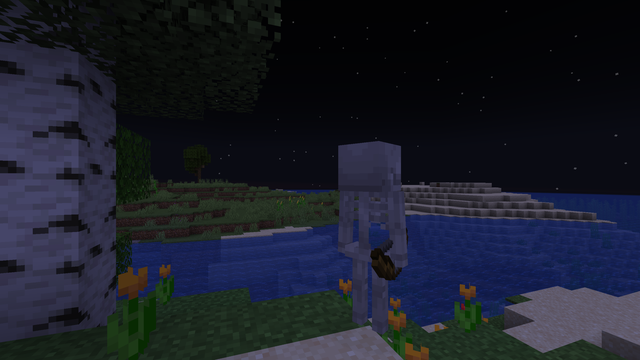squelettes: (334, 141, 409, 347)
